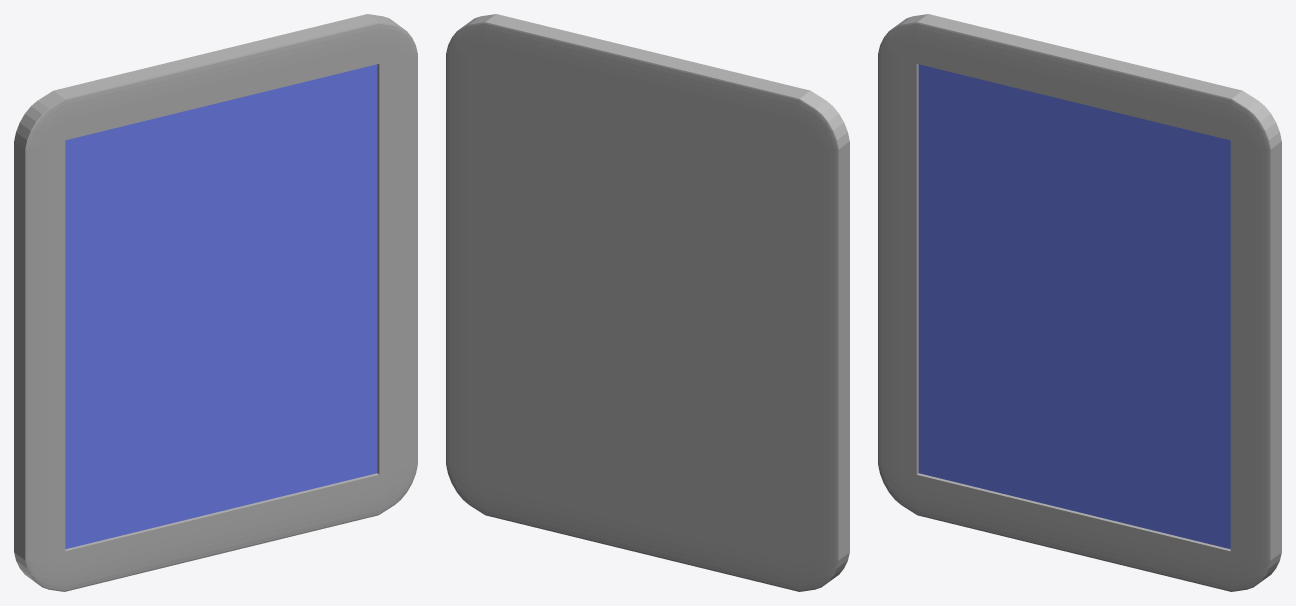
Rendered from Keypad.fbx.
3 views of the same model, side by side, from view 1: azimuth 30°, elevation 25°; view 2: azimuth 150°, elevation 25°; view 3: azimuth 330°, elevation 25° (orthographic).
Visible parts, largest first — view 1: Cube; view 2: Cube; view 3: Cube.
Boxes of the visible parts, box(x1,y1,x2,y2) form: Cube: box(14, 14, 417, 591); Cube: box(446, 14, 849, 591); Cube: box(878, 14, 1281, 591).
Bounding box in the file's own units: 160 × 192 × 8.86.
